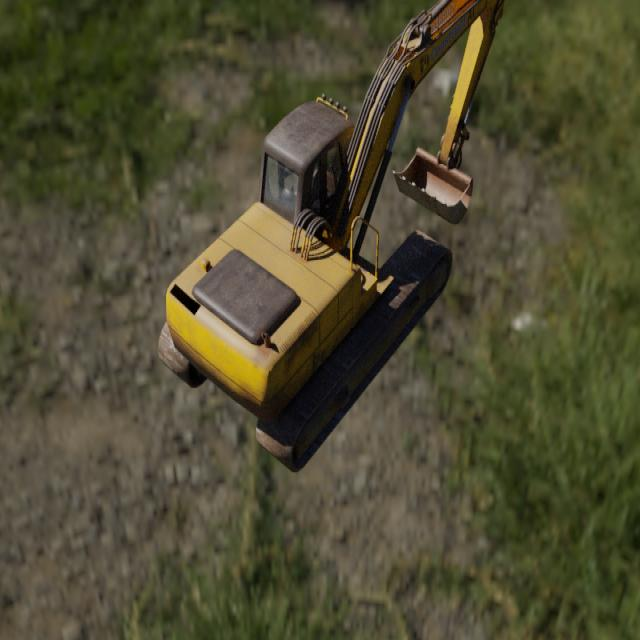excavator: (157, 0, 505, 473)
